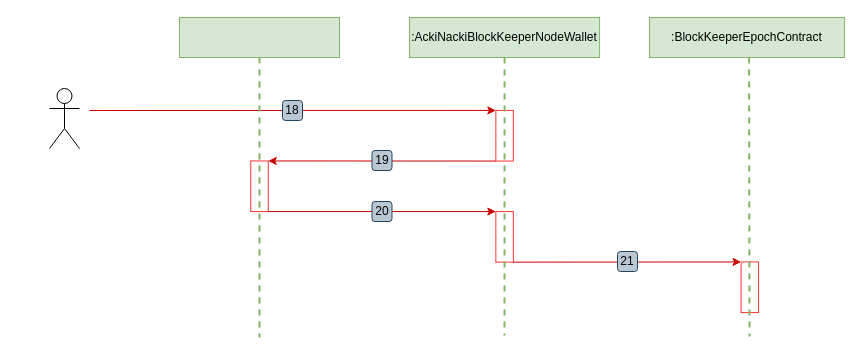
Some shapes in this 863 by 357 pixel diagram are drawn without their labels. Here are the shapes that lost their labels. From the top down, the centre of each, then its label:
At point 259,37: ": BlockKeeperContractRoot".
At point 64,118: "Node Owner/ BK script".
